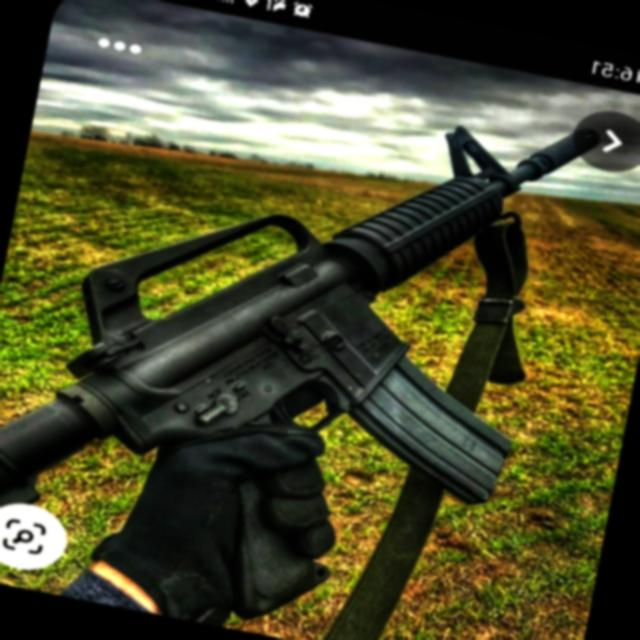m16: (0, 165, 622, 607)
